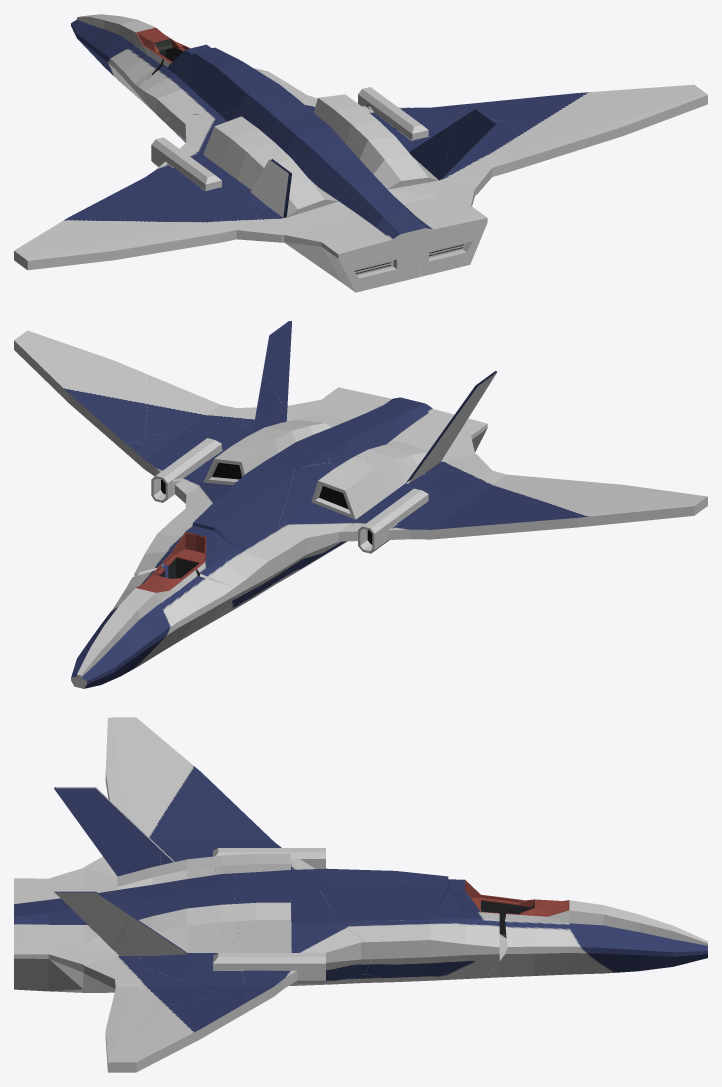
Rendered from SSCHawk_Destruct.fbx.
3 views of the same model, one above another, from view 1: azimuth 30°, elevation 25°; view 2: azimuth 150°, elevation 25°; view 3: azimuth 270°, elevation 25° (orthographic). The views are drawn at different scales.
Visible parts, largest first — view 1: SSCHawk_Body_Frag.03, SSCHawk_Body_Frag.07, SSCHawk_Body_Frag.05, SSCHawk_Body_Frag.06, SSCHawk_Body_Frag.00, SSCHawk_Body_Frag.01, SSCHawk_Body_Frag.02, SSCHawk_Body_Frag.04; view 2: SSCHawk_Body_Frag.07, SSCHawk_Body_Frag.03, SSCHawk_Body_Frag.00, SSCHawk_Body_Frag.01, SSCHawk_Body_Frag.06, SSCHawk_Body_Frag.02, SSCHawk_Body_Frag.05, SSCHawk_Body_Frag.04; view 3: SSCHawk_Body_Frag.03, SSCHawk_Body_Frag.07, SSCHawk_Body_Frag.00, SSCHawk_Body_Frag.01, SSCHawk_Body_Frag.02, SSCHawk_Body_Frag.05, SSCHawk_Body_Frag.06, SSCHawk_Body_Frag.04.
Part boxes in pixels (box(x1,y1,x2,y2)): SSCHawk_Body_Frag.03: box(246, 109, 470, 292); SSCHawk_Body_Frag.07: box(14, 104, 286, 270); SSCHawk_Body_Frag.05: box(420, 120, 584, 276); SSCHawk_Body_Frag.06: box(466, 84, 707, 147); SSCHawk_Body_Frag.00: box(139, 44, 303, 130); SSCHawk_Body_Frag.01: box(71, 14, 190, 111); SSCHawk_Body_Frag.02: box(265, 87, 466, 139); SSCHawk_Body_Frag.04: box(445, 108, 497, 173); SSCHawk_Body_Frag.07: box(201, 454, 707, 612); SSCHawk_Body_Frag.03: box(136, 371, 496, 524); SSCHawk_Body_Frag.00: box(134, 470, 293, 622); SSCHawk_Body_Frag.01: box(71, 565, 236, 688); SSCHawk_Body_Frag.06: box(14, 330, 149, 453); SSCHawk_Body_Frag.02: box(126, 441, 329, 509); SSCHawk_Body_Frag.05: box(145, 375, 404, 435); SSCHawk_Body_Frag.04: box(262, 321, 291, 410); SSCHawk_Body_Frag.03: box(14, 787, 245, 995); SSCHawk_Body_Frag.07: box(105, 717, 400, 985); SSCHawk_Body_Frag.00: box(293, 868, 499, 981); SSCHawk_Body_Frag.01: box(486, 897, 707, 977); SSCHawk_Body_Frag.02: box(231, 871, 371, 1006); SSCHawk_Body_Frag.05: box(14, 915, 225, 1015); SSCHawk_Body_Frag.06: box(105, 995, 256, 1072); SSCHawk_Body_Frag.04: box(54, 891, 130, 949).
Bounding box in the file's own units: 1605 × 279 × 1364.
